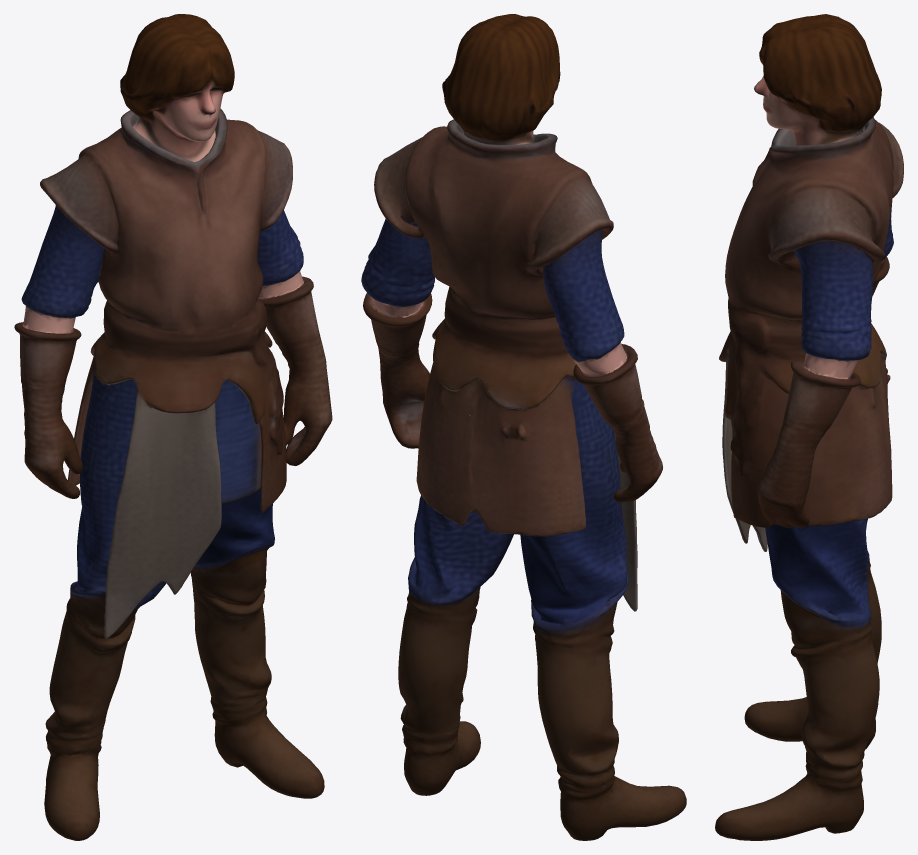
Rendered from mail_s11.glb.
3 views of the same model, side by side, from view 1: azimuth 30°, elevation 25°; view 2: azimuth 150°, elevation 25°; view 3: azimuth 270°, elevation 25° (orthographic).
Visible parts, largest first — view 1: geometry_0; view 2: geometry_0; view 3: geometry_0.
Part boxes in pixels (box(x1,y1,x2,y2)): geometry_0: box(14, 14, 332, 840); geometry_0: box(361, 14, 686, 840); geometry_0: box(715, 14, 903, 840).
Bounding box in the file's own units: 0.3898 × 1 × 0.222.
1 material, 1 textured.
